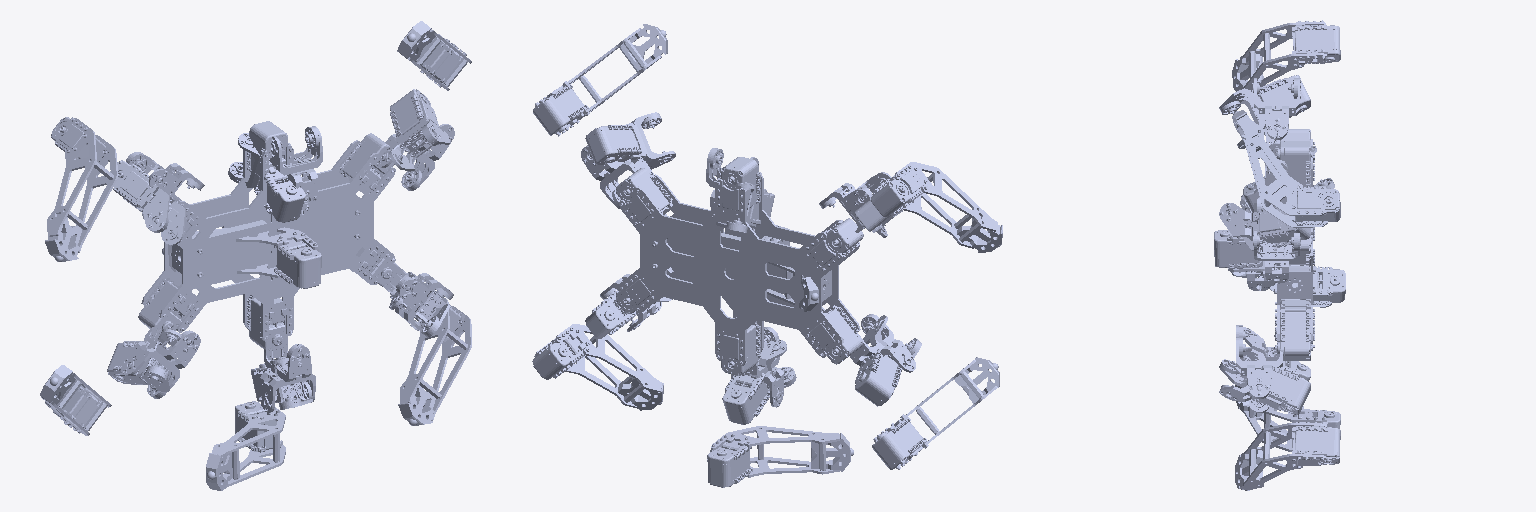
--- What the picture shows (computed from the rendered views, not written in the file) ---
The picture shows the robot from 3 angles, left to right: view 1: azimuth 30°, elevation 25°; view 2: azimuth 150°, elevation 25°; view 3: azimuth 270°, elevation 25°; orthographic projection.
Model ASSY_phantom_urdf with 20 links and 19 joints (19 continuous), rooted at reference_plate, posed all joints at 0.
Visible links, largest first — view 1: torso, LF_foot, RM_foot, RB_foot, reference_plate, LM_foot, LF_calf, LB_calf, RF_foot, LB_foot, LM_calf, RF_thigh (+8 smaller); view 2: torso, RM_foot, LF_foot, RB_foot, LB_foot, RF_foot, LB_calf, RM_calf, RF_calf, RB_calf, LB_thigh, RF_thigh (+7 smaller); view 3: torso, LB_foot, RB_foot, LF_foot, RB_calf, LB_calf, LF_calf, RM_foot, RB_thigh, LF_thigh, LM_foot, LB_thigh (+2 smaller).
Link boxes in pixels (<box>): torso: <box>138,121,398,350</box>; LF_foot: <box>45,117,117,261</box>; RM_foot: <box>206,401,285,490</box>; RB_foot: <box>398,297,471,425</box>; reference_plate: <box>209,207,346,282</box>; LM_foot: <box>162,227,321,288</box>; LF_calf: <box>110,160,186,245</box>; LB_calf: <box>389,89,449,170</box>; RF_foot: <box>40,365,111,435</box>; LB_foot: <box>397,21,471,90</box>; LM_calf: <box>228,133,305,222</box>; RF_thigh: <box>121,317,200,398</box>; torso: <box>616,157,863,375</box>; RM_foot: <box>707,426,853,487</box>; LF_foot: <box>871,162,1002,252</box>; RB_foot: <box>532,324,663,410</box>; LB_foot: <box>533,24,667,136</box>; RF_foot: <box>872,357,999,469</box>; LB_calf: <box>585,112,675,169</box>; RM_calf: <box>722,339,796,424</box>; RF_calf: <box>855,315,921,406</box>; RB_calf: <box>585,289,672,338</box>; LB_thigh: <box>581,145,653,208</box>; RF_thigh: <box>850,314,915,372</box>; torso: <box>1274,129,1315,360</box>; LB_foot: <box>1232,110,1340,227</box>; RB_foot: <box>1235,422,1340,490</box>; LF_foot: <box>1232,20,1340,91</box>; RB_calf: <box>1219,349,1310,414</box>; LB_calf: <box>1219,203,1310,250</box>; LF_calf: <box>1219,75,1310,148</box>; RM_foot: <box>1235,385,1340,451</box>; RB_thigh: <box>1236,337,1282,412</box>; LF_thigh: <box>1253,78,1300,145</box>; LM_foot: <box>1214,227,1314,272</box>; LB_thigh: <box>1253,230,1300,283</box>.
Bounding box of the posed robot: 0.5029 × 0.1369 × 0.4492 m (x, y, z).
Meshes: 20 distinct files referenced, 20 mesh visuals loaded (20 binary STL).

robot.urdf — ASSY_phantom_urdf:
<?xml version="1.0" encoding="utf-8"?>
<!-- This URDF was automatically created by SolidWorks to URDF Exporter! Originally created by Stephen Brawner ([email redacted]) 
     Commit Version: 1.6.0-1-g15f4949  Build Version: 1.6.7594.29634
     For more information, please see http://wiki.ros.org/sw_urdf_exporter -->
<robot
  name="ASSY_phantom_urdf">
  <link
    name="reference_plate">
    <inertial>
      <origin
        xyz="-2.29571090240976E-19 -7.6138559525102E-19 -0.005"
        rpy="0 0 0" />
      <mass
        value="0.0695305500046139" />
      <inertia
        ixx="1.46054192066062E-05"
        ixy="3.7521509506977E-38"
        ixz="0"
        iyy="0.000145973966303231"
        iyz="3.15291138410029E-39"
        izz="0.00015942054300976" />
    </inertial>
    <visual>
      <origin
        xyz="0 0 0"
        rpy="0 0 0" />
      <geometry>
        <mesh
          filename="package://ASSY_phantom_urdf/meshes/reference_plate.STL" />
      </geometry>
      <material
        name="">
        <color
          rgba="0.792156862745098 0.819607843137255 0.933333333333333 1" />
      </material>
    </visual>
    <collision>
      <origin
        xyz="0 0 0"
        rpy="0 0 0" />
      <geometry>
        <mesh
          filename="package://ASSY_phantom_urdf/meshes/reference_plate.STL" />
      </geometry>
    </collision>
  </link>
  <link
    name="torso">
    <inertial>
      <origin
        xyz="-4.20026365259337E-08 0.0191077517790398 -0.000857766902298628"
        rpy="0 0 0" />
      <mass
        value="0.361460112918338" />
      <inertia
        ixx="0.000451447699694477"
        ixy="1.05927447589073E-11"
        ixz="8.0139973020819E-13"
        iyy="0.000602965438079502"
        iyz="-7.25588466219997E-09"
        izz="0.00020011493739623" />
    </inertial>
    <visual>
      <origin
        xyz="0 0 0"
        rpy="0 0 0" />
      <geometry>
        <mesh
          filename="package://ASSY_phantom_urdf/meshes/torso.STL" />
      </geometry>
      <material
        name="">
        <color
          rgba="0.792156862745098 0.819607843137255 0.933333333333333 1" />
      </material>
    </visual>
    <collision>
      <origin
        xyz="0 0 0"
        rpy="0 0 0" />
      <geometry>
        <mesh
          filename="package://ASSY_phantom_urdf/meshes/torso.STL" />
      </geometry>
    </collision>
  </link>
  <joint
    name="ref_to_torso_joint"
    type="continuous">
    <origin
      xyz="0 0 0"
      rpy="0 -1.5708 0" />
    <parent
      link="reference_plate" />
    <child
      link="torso" />
    <axis
      xyz="0 1 0" />
  </joint>
  <link
    name="LF_thigh">
    <inertial>
      <origin
        xyz="0.000962648433085952 0.0194026504100212 -0.0259911487205287"
        rpy="0 0 0" />
      <mass
        value="0.0187184822855238" />
      <inertia
        ixx="4.58328035716512E-06"
        ixy="1.45278176785183E-12"
        ixz="8.99636334395285E-11"
        iyy="4.58328060295336E-06"
        iyz="-9.54262640564057E-11"
        izz="5.84140443768982E-06" />
    </inertial>
    <visual>
      <origin
        xyz="0 0 0"
        rpy="0 0 0" />
      <geometry>
        <mesh
          filename="package://ASSY_phantom_urdf/meshes/LF_thigh.STL" />
      </geometry>
      <material
        name="">
        <color
          rgba="0.792156862745098 0.819607843137255 0.933333333333333 1" />
      </material>
    </visual>
    <collision>
      <origin
        xyz="0 0 0"
        rpy="0 0 0" />
      <geometry>
        <mesh
          filename="package://ASSY_phantom_urdf/meshes/LF_thigh.STL" />
      </geometry>
    </collision>
  </link>
  <joint
    name="LF1"
    type="continuous">
    <origin
      xyz="0.06091 0 0.12191"
      rpy="3.1416 -0.7854 -3.1416" />
    <parent
      link="torso" />
    <child
      link="LF_thigh" />
    <axis
      xyz="0 1 0" />
  </joint>
  <link
    name="LF_calf">
    <inertial>
      <origin
        xyz="0.000736289101338099 0.0205456005926864 -0.008758027531787"
        rpy="0 0 0" />
      <mass
        value="0.0551626378991535" />
      <inertia
        ixx="1.16899614361583E-05"
        ixy="-1.79508008437842E-07"
        ixz="6.53555214939164E-08"
        iyy="1.13260384080131E-05"
        iyz="1.84901035804858E-06"
        izz="1.4690400027612E-05" />
    </inertial>
    <visual>
      <origin
        xyz="0 0 0"
        rpy="0 0 0" />
      <geometry>
        <mesh
          filename="package://ASSY_phantom_urdf/meshes/LF_calf.STL" />
      </geometry>
      <material
        name="">
        <color
          rgba="0.792156862745098 0.819607843137255 0.933333333333333 1" />
      </material>
    </visual>
    <collision>
      <origin
        xyz="0 0 0"
        rpy="0 0 0" />
      <geometry>
        <mesh
          filename="package://ASSY_phantom_urdf/meshes/LF_calf.STL" />
      </geometry>
    </collision>
  </link>
  <joint
    name="LF2"
    type="continuous">
    <origin
      xyz="0 0.01844 -0.052"
      rpy="-0.428439870509635 0 0" />
    <parent
      link="LF_thigh" />
    <child
      link="LF_calf" />
    <axis
      xyz="1 0 0" />
  </joint>
  <link
    name="LF_foot">
    <inertial>
      <origin
        xyz="0.000412462660724804 -0.0333551606347992 -0.01867518046554"
        rpy="0 0 0" />
      <mass
        value="0.0659803620597775" />
      <inertia
        ixx="2.59560666919155E-05"
        ixy="9.83540703702039E-08"
        ixz="1.637483932444E-07"
        iyy="1.25102982671869E-05"
        iyz="-2.00891186302198E-06"
        izz="2.36167186288937E-05" />
    </inertial>
    <visual>
      <origin
        xyz="0 0 0"
        rpy="0 0 0" />
      <geometry>
        <mesh
          filename="package://ASSY_phantom_urdf/meshes/LF_foot.STL" />
      </geometry>
      <material
        name="">
        <color
          rgba="0.792156862745098 0.819607843137255 0.933333333333333 1" />
      </material>
    </visual>
    <collision>
      <origin
        xyz="0 0 0"
        rpy="0 0 0" />
      <geometry>
        <mesh
          filename="package://ASSY_phantom_urdf/meshes/LF_foot.STL" />
      </geometry>
    </collision>
  </link>
  <joint
    name="LF3"
    type="continuous">
    <origin
      xyz="0 0.0552704102679548 -0.0361826753434916"
      rpy="0.396828297419917 0 0" />
    <parent
      link="LF_calf" />
    <child
      link="LF_foot" />
    <axis
      xyz="1 0 0" />
  </joint>
  <link
    name="LM_thigh">
    <inertial>
      <origin
        xyz="0.000962652251555589 0.0194026522338854 -0.0259911994400861"
        rpy="0 0 0" />
      <mass
        value="0.0187184853256144" />
      <inertia
        ixx="4.58327757136495E-06"
        ixy="1.61257794818298E-12"
        ixz="9.21329265902019E-11"
        iyy="4.58327757136493E-06"
        iyz="-9.21318961790252E-11"
        izz="5.84140473916597E-06" />
    </inertial>
    <visual>
      <origin
        xyz="0 0 0"
        rpy="0 0 0" />
      <geometry>
        <mesh
          filename="package://ASSY_phantom_urdf/meshes/LM_thigh.STL" />
      </geometry>
      <material
        name="">
        <color
          rgba="0.792156862745098 0.819607843137255 0.933333333333333 1" />
      </material>
    </visual>
    <collision>
      <origin
        xyz="0 0 0"
        rpy="0 0 0" />
      <geometry>
        <mesh
          filename="package://ASSY_phantom_urdf/meshes/LM_thigh.STL" />
      </geometry>
    </collision>
  </link>
  <joint
    name="LM1"
    type="continuous">
    <origin
      xyz="0.1035 0 0"
      rpy="3.14159265358979 -1.5707963267949 0" />
    <parent
      link="torso" />
    <child
      link="LM_thigh" />
    <axis
      xyz="0 1 0" />
  </joint>
  <link
    name="LM_calf">
    <inertial>
      <origin
        xyz="0.000736290749245126 0.0205456037859605 -0.00875803140989759"
        rpy="0 0 0" />
      <mass
        value="0.0551626363009457" />
      <inertia
        ixx="1.16899658431903E-05"
        ixy="-1.79507647092078E-07"
        ixz="6.53549457968838E-08"
        iyy="1.1326041676615E-05"
        iyz="1.84901209582534E-06"
        izz="1.46904010239772E-05" />
    </inertial>
    <visual>
      <origin
        xyz="0 0 0"
        rpy="0 0 0" />
      <geometry>
        <mesh
          filename="package://ASSY_phantom_urdf/meshes/LM_calf.STL" />
      </geometry>
      <material
        name="">
        <color
          rgba="0.792156862745098 0.819607843137255 0.933333333333333 1" />
      </material>
    </visual>
    <collision>
      <origin
        xyz="0 0 0"
        rpy="0 0 0" />
      <geometry>
        <mesh
          filename="package://ASSY_phantom_urdf/meshes/LM_calf.STL" />
      </geometry>
    </collision>
  </link>
  <joint
    name="LM2"
    type="continuous">
    <origin
      xyz="0 0.01844 -0.052"
      rpy="-0.428439870509635 0 0" />
    <parent
      link="LM_thigh" />
    <child
      link="LM_calf" />
    <axis
      xyz="1 0 0" />
  </joint>
  <link
    name="LM_foot">
    <inertial>
      <origin
        xyz="0.000412462344737784 -0.0333551499088378 -0.0186751759055259"
        rpy="0 0 0" />
      <mass
        value="0.0659803344728989" />
      <inertia
        ixx="2.59560663827908E-05"
        ixy="9.83540777732148E-08"
        ixz="1.63748408217199E-07"
        iyy="1.25102980235315E-05"
        iyz="-2.00891171594794E-06"
        izz="2.36167183432796E-05" />
    </inertial>
    <visual>
      <origin
        xyz="0 0 0"
        rpy="0 0 0" />
      <geometry>
        <mesh
          filename="package://ASSY_phantom_urdf/meshes/LM_foot.STL" />
      </geometry>
      <material
        name="">
        <color
          rgba="0.792156862745098 0.819607843137255 0.933333333333333 1" />
      </material>
    </visual>
    <collision>
      <origin
        xyz="0 0 0"
        rpy="0 0 0" />
      <geometry>
        <mesh
          filename="package://ASSY_phantom_urdf/meshes/LM_foot.STL" />
      </geometry>
    </collision>
  </link>
  <joint
    name="LM3"
    type="continuous">
    <origin
      xyz="0 0.0552704102679549 -0.0361826753434916"
      rpy="0.396828297419917 0 0" />
    <parent
      link="LM_calf" />
    <child
      link="LM_foot" />
    <axis
      xyz="1 0 0" />
  </joint>
  <link
    name="LB_thigh">
    <inertial>
      <origin
        xyz="0.000962648433085966 0.0194026504100212 -0.0259911487205288"
        rpy="0 0 0" />
      <mass
        value="0.0187184822855238" />
      <inertia
        ixx="4.58328035716511E-06"
        ixy="1.45278176907644E-12"
        ixz="8.99636334403755E-11"
        iyy="4.58328060295335E-06"
        iyz="-9.54262640556684E-11"
        izz="5.84140443768982E-06" />
    </inertial>
    <visual>
      <origin
        xyz="0 0 0"
        rpy="0 0 0" />
      <geometry>
        <mesh
          filename="package://ASSY_phantom_urdf/meshes/LB_thigh.STL" />
      </geometry>
      <material
        name="">
        <color
          rgba="0.792156862745098 0.819607843137255 0.933333333333333 1" />
      </material>
    </visual>
    <collision>
      <origin
        xyz="0 0 0"
        rpy="0 0 0" />
      <geometry>
        <mesh
          filename="package://ASSY_phantom_urdf/meshes/LB_thigh.STL" />
      </geometry>
    </collision>
  </link>
  <joint
    name="LB1"
    type="continuous">
    <origin
      xyz="0.0609100775541958 0 -0.121910077554196"
      rpy="0 -0.78539816339745 0" />
    <parent
      link="torso" />
    <child
      link="LB_thigh" />
    <axis
      xyz="0 1 0" />
  </joint>
  <link
    name="LB_calf">
    <inertial>
      <origin
        xyz="0.000736289101338015 0.0205456005926864 -0.00875802753178698"
        rpy="0 0 0" />
      <mass
        value="0.0551626378991534" />
      <inertia
        ixx="1.16899614361583E-05"
        ixy="-1.79508008437838E-07"
        ixz="6.53555214939129E-08"
        iyy="1.1326038408013E-05"
        iyz="1.84901035804858E-06"
        izz="1.46904000276119E-05" />
    </inertial>
    <visual>
      <origin
        xyz="0 0 0"
        rpy="0 0 0" />
      <geometry>
        <mesh
          filename="package://ASSY_phantom_urdf/meshes/LB_calf.STL" />
      </geometry>
      <material
        name="">
        <color
          rgba="0.792156862745098 0.819607843137255 0.933333333333333 1" />
      </material>
    </visual>
    <collision>
      <origin
        xyz="0 0 0"
        rpy="0 0 0" />
      <geometry>
        <mesh
          filename="package://ASSY_phantom_urdf/meshes/LB_calf.STL" />
      </geometry>
    </collision>
  </link>
  <joint
    name="LB2"
    type="continuous">
    <origin
      xyz="0 0.01844 -0.0519999999999999"
      rpy="-0.428439870509635 0 0" />
    <parent
      link="LB_thigh" />
    <child
      link="LB_calf" />
    <axis
      xyz="1 0 0" />
  </joint>
  <link
    name="LB_foot">
    <inertial>
      <origin
        xyz="0.000252462660724595 -0.0333551606347992 -0.0186751804655401"
        rpy="0 0 0" />
      <mass
        value="0.0659803620597775" />
      <inertia
        ixx="2.59560666919155E-05"
        ixy="9.83540703701817E-08"
        ixz="1.63748393244395E-07"
        iyy="1.25102982671869E-05"
        iyz="-2.00891186302197E-06"
        izz="2.36167186288937E-05" />
    </inertial>
    <visual>
      <origin
        xyz="0 0 0"
        rpy="0 0 0" />
      <geometry>
        <mesh
          filename="package://ASSY_phantom_urdf/meshes/LB_foot.STL" />
      </geometry>
      <material
        name="">
        <color
          rgba="0.792156862745098 0.819607843137255 0.933333333333333 1" />
      </material>
    </visual>
    <collision>
      <origin
        xyz="0 0 0"
        rpy="0 0 0" />
      <geometry>
        <mesh
          filename="package://ASSY_phantom_urdf/meshes/LB_foot.STL" />
      </geometry>
    </collision>
  </link>
  <joint
    name="LB3"
    type="continuous">
    <origin
      xyz="0 0.0552704102679549 -0.0361826753434916"
      rpy="0.396828297419918 0 0" />
    <parent
      link="LB_calf" />
    <child
      link="LB_foot" />
    <axis
      xyz="1 0 0" />
  </joint>
  <link
    name="RF_thigh">
    <inertial>
      <origin
        xyz="0.0194027231911689 -0.000962720771382118 0.0260087651240974"
        rpy="0 0 0" />
      <mass
        value="0.018718799941622" />
      <inertia
        ixx="4.58336747949757E-06"
        ixy="-1.38095725082975E-11"
        ixz="1.50188775489789E-10"
        iyy="4.5833671326977E-06"
        iyz="1.46826574783467E-10"
        izz="5.84152341451724E-06" />
    </inertial>
    <visual>
      <origin
        xyz="0 0 0"
        rpy="0 0 0" />
      <geometry>
        <mesh
          filename="package://ASSY_phantom_urdf/meshes/RF_thigh.STL" />
      </geometry>
      <material
        name="">
        <color
          rgba="0.792156862745098 0.819607843137255 0.933333333333333 1" />
      </material>
    </visual>
    <collision>
      <origin
        xyz="0 0 0"
        rpy="0 0 0" />
      <geometry>
        <mesh
          filename="package://ASSY_phantom_urdf/meshes/RF_thigh.STL" />
      </geometry>
    </collision>
  </link>
  <joint
    name="RF1"
    type="continuous">
    <origin
      xyz="-0.0609100775541958 0 0.121910077554196"
      rpy="-0.785398163397452 0 1.5707963267949" />
    <parent
      link="torso" />
    <child
      link="RF_thigh" />
    <axis
      xyz="1 0 0" />
  </joint>
  <link
    name="RF_calf">
    <inertial>
      <origin
        xyz="0.000736290426934662 0.0205456831764225 0.00875806720801461"
        rpy="0 0 0" />
      <mass
        value="0.0551628381773646" />
      <inertia
        ixx="1.16899750551211E-05"
        ixy="-1.79504880014545E-07"
        ixz="-6.53847557908524E-08"
        iyy="1.13260997211582E-05"
        iyz="-1.84902525857226E-06"
        izz="1.46904739827742E-05" />
    </inertial>
    <visual>
      <origin
        xyz="0 0 0"
        rpy="0 0 0" />
      <geometry>
        <mesh
          filename="package://ASSY_phantom_urdf/meshes/RF_calf.STL" />
      </geometry>
      <material
        name="">
        <color
          rgba="0.792156862745098 0.819607843137255 0.933333333333333 1" />
      </material>
    </visual>
    <collision>
      <origin
        xyz="0 0 0"
        rpy="0 0 0" />
      <geometry>
        <mesh
          filename="package://ASSY_phantom_urdf/meshes/RF_calf.STL" />
      </geometry>
    </collision>
  </link>
  <joint
    name="RF2"
    type="continuous">
    <origin
      xyz="0.0184400000000001 0 0.0520000000000002"
      rpy="0.428439870509634 0 -1.5707963267949" />
    <parent
      link="RF_thigh" />
    <child
      link="RF_calf" />
    <axis
      xyz="1 0 0" />
  </joint>
  <link
    name="RF_foot">
    <inertial>
      <origin
        xyz="0.000412444970048088 -0.033355131524438 0.0186751748473197"
        rpy="0 0 0" />
      <mass
        value="0.0659804422526083" />
      <inertia
        ixx="2.59560574979232E-05"
        ixy="9.83509696596042E-08"
        ixz="-1.6374496689321E-07"
        iyy="1.25103110267222E-05"
        iyz="2.00890900968632E-06"
        izz="2.36167344837691E-05" />
    </inertial>
    <visual>
      <origin
        xyz="0 0 0"
        rpy="0 0 0" />
      <geometry>
        <mesh
          filename="package://ASSY_phantom_urdf/meshes/RF_foot.STL" />
      </geometry>
      <material
        name="">
        <color
          rgba="0.792156862745098 0.819607843137255 0.933333333333333 1" />
      </material>
    </visual>
    <collision>
      <origin
        xyz="0 0 0"
        rpy="0 0 0" />
      <geometry>
        <mesh
          filename="package://ASSY_phantom_urdf/meshes/RF_foot.STL" />
      </geometry>
    </collision>
  </link>
  <joint
    name="RF3"
    type="continuous">
    <origin
      xyz="0 0.0627573500923168 0.0390014928378291"
      rpy="-0.396828297419917 0 0" />
    <parent
      link="RF_calf" />
    <child
      link="RF_foot" />
    <axis
      xyz="1 0 0" />
  </joint>
  <link
    name="RM_thigh">
    <inertial>
      <origin
        xyz="0.0194027237249261 -0.000962723742565761 0.0260088003580918"
        rpy="0 0 0" />
      <mass
        value="0.0187188019506362" />
      <inertia
        ixx="4.58336504964395E-06"
        ixy="-1.38919554681972E-11"
        ixz="1.48345216925798E-10"
        iyy="4.58336504964394E-06"
        iyz="1.48346245086798E-10"
        izz="5.84152380154399E-06" />
    </inertial>
    <visual>
      <origin
        xyz="0 0 0"
        rpy="0 0 0" />
      <geometry>
        <mesh
          filename="package://ASSY_phantom_urdf/meshes/RM_thigh.STL" />
      </geometry>
      <material
        name="">
        <color
          rgba="0.792156862745098 0.819607843137255 0.933333333333333 1" />
      </material>
    </visual>
    <collision>
      <origin
        xyz="0 0 0"
        rpy="0 0 0" />
      <geometry>
        <mesh
          filename="package://ASSY_phantom_urdf/meshes/RM_thigh.STL" />
      </geometry>
    </collision>
  </link>
  <joint
    name="RM1"
    type="continuous">
    <origin
      xyz="-0.1035 0 0"
      rpy="-1.5707963267949 0 1.5707963267949" />
    <parent
      link="torso" />
    <child
      link="RM_thigh" />
    <axis
      xyz="1 0 0" />
  </joint>
  <link
    name="RM_calf">
    <inertial>
      <origin
        xyz="0.000736291327771293 0.0205456846827271 0.00875806984040992"
        rpy="0 0 0" />
      <mass
        value="0.0551628383375633" />
      <inertia
        ixx="1.16899783369346E-05"
        ixy="-1.79504377078489E-07"
        ixz="-6.53837296757084E-08"
        iyy="1.13261026243006E-05"
        iyz="-1.84902632673917E-06"
        izz="1.46904744145783E-05" />
    </inertial>
    <visual>
      <origin
        xyz="0 0 0"
        rpy="0 0 0" />
      <geometry>
        <mesh
          filename="package://ASSY_phantom_urdf/meshes/RM_calf.STL" />
      </geometry>
      <material
        name="">
        <color
          rgba="0.792156862745098 0.819607843137255 0.933333333333333 1" />
      </material>
    </visual>
    <collision>
      <origin
        xyz="0 0 0"
        rpy="0 0 0" />
      <geometry>
        <mesh
          filename="package://ASSY_phantom_urdf/meshes/RM_calf.STL" />
      </geometry>
    </collision>
  </link>
  <joint
    name="RM2"
    type="continuous">
    <origin
      xyz="0.0184400000000001 0 0.0520000000000001"
      rpy="0.428439870509635 0 -1.5707963267949" />
    <parent
      link="RM_thigh" />
    <child
      link="RM_calf" />
    <axis
      xyz="1 0 0" />
  </joint>
  <link
    name="RM_foot">
    <inertial>
      <origin
        xyz="0.000412444394053668 -0.033355120047462 0.0186751702294503"
        rpy="0 0 0" />
      <mass
        value="0.0659804165929113" />
      <inertia
        ixx="2.59560571642623E-05"
        ixy="9.83509674568297E-08"
        ixz="-1.63744970498219E-07"
        iyy="1.25103108194909E-05"
        iyz="2.00890881392885E-06"
        izz="2.36167342109956E-05" />
    </inertial>
    <visual>
      <origin
        xyz="0 0 0"
        rpy="0 0 0" />
      <geometry>
        <mesh
          filename="package://ASSY_phantom_urdf/meshes/RM_foot.STL" />
      </geometry>
      <material
        name="">
        <color
          rgba="0.792156862745098 0.819607843137255 0.933333333333333 1" />
      </material>
    </visual>
    <collision>
      <origin
        xyz="0 0 0"
        rpy="0 0 0" />
      <geometry>
        <mesh
          filename="package://ASSY_phantom_urdf/meshes/RM_foot.STL" />
      </geometry>
    </collision>
  </link>
  <joint
    name="RM3"
    type="continuous">
    <origin
      xyz="0 0.0552704102679548 0.0361826753434916"
      rpy="-0.396828297419917 0 0" />
    <parent
      link="RM_calf" />
    <child
      link="RM_foot" />
    <axis
      xyz="1 0 0" />
  </joint>
  <link
    name="RB_thigh">
    <inertial>
      <origin
        xyz="0.0194027231911689 -0.000962720771382153 0.0260087651240973"
        rpy="0 0 0" />
      <mass
        value="0.0187187999416221" />
      <inertia
        ixx="4.58336747949758E-06"
        ixy="-1.38095725066893E-11"
        ixz="1.50188775486848E-10"
        iyy="4.58336713269771E-06"
        iyz="1.46826574782832E-10"
        izz="5.84152341451725E-06" />
    </inertial>
    <visual>
      <origin
        xyz="0 0 0"
        rpy="0 0 0" />
      <geometry>
        <mesh
          filename="package://ASSY_phantom_urdf/meshes/RB_thigh.STL" />
      </geometry>
      <material
        name="">
        <color
          rgba="0.792156862745098 0.819607843137255 0.933333333333333 1" />
      </material>
    </visual>
    <collision>
      <origin
        xyz="0 0 0"
        rpy="0 0 0" />
      <geometry>
        <mesh
          filename="package://ASSY_phantom_urdf/meshes/RB_thigh.STL" />
      </geometry>
    </collision>
  </link>
  <joint
    name="RB1"
    type="continuous">
    <origin
      xyz="-0.0609100775541957 0 -0.121910077554196"
      rpy="-2.35619449019234 0 1.5707963267949" />
    <parent
      link="torso" />
    <child
      link="RB_thigh" />
    <axis
      xyz="1 0 0" />
  </joint>
  <link
    name="RB_calf">
    <inertial>
      <origin
        xyz="0.000736290426934474 0.0205456831764226 0.00875806720801464"
        rpy="0 0 0" />
      <mass
        value="0.0551628381773647" />
      <inertia
        ixx="1.16899750551211E-05"
        ixy="-1.79504880014546E-07"
        ixz="-6.53847557908654E-08"
        iyy="1.13260997211582E-05"
        iyz="-1.84902525857226E-06"
        izz="1.46904739827743E-05" />
    </inertial>
    <visual>
      <origin
        xyz="0 0 0"
        rpy="0 0 0" />
      <geometry>
        <mesh
          filename="package://ASSY_phantom_urdf/meshes/RB_calf.STL" />
      </geometry>
      <material
        name="">
        <color
          rgba="0.792156862745098 0.819607843137255 0.933333333333333 1" />
      </material>
    </visual>
    <collision>
      <origin
        xyz="0 0 0"
        rpy="0 0 0" />
      <geometry>
        <mesh
          filename="package://ASSY_phantom_urdf/meshes/RB_calf.STL" />
      </geometry>
    </collision>
  </link>
  <joint
    name="RB2"
    type="continuous">
    <origin
      xyz="0.01844 0 0.052"
      rpy="0.428439870509635 0 -1.5707963267949" />
    <parent
      link="RB_thigh" />
    <child
      link="RB_calf" />
    <axis
      xyz="1 0 0" />
  </joint>
  <link
    name="RB_foot">
    <inertial>
      <origin
        xyz="0.000412444970047492 -0.0333551315244381 0.0186751748473198"
        rpy="0 0 0" />
      <mass
        value="0.0659804422526083" />
      <inertia
        ixx="2.59560574979232E-05"
        ixy="9.8350969659576E-08"
        ixz="-1.63744966893196E-07"
        iyy="1.25103110267222E-05"
        iyz="2.00890900968631E-06"
        izz="2.36167344837691E-05" />
    </inertial>
    <visual>
      <origin
        xyz="0 0 0"
        rpy="0 0 0" />
      <geometry>
        <mesh
          filename="package://ASSY_phantom_urdf/meshes/RB_foot.STL" />
      </geometry>
      <material
        name="">
        <color
          rgba="0.792156862745098 0.819607843137255 0.933333333333333 1" />
      </material>
    </visual>
    <collision>
      <origin
        xyz="0 0 0"
        rpy="0 0 0" />
      <geometry>
        <mesh
          filename="package://ASSY_phantom_urdf/meshes/RB_foot.STL" />
      </geometry>
    </collision>
  </link>
  <joint
    name="RB3"
    type="continuous">
    <origin
      xyz="0 0.055270410267955 0.0361826753434918"
      rpy="-0.396828297419917 0 0" />
    <parent
      link="RB_calf" />
    <child
      link="RB_foot" />
    <axis
      xyz="1 0 0" />
  </joint>
</robot>
